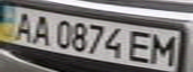0: (51, 17, 72, 50)
4: (103, 25, 130, 60)
7: (84, 22, 109, 55)
8: (69, 20, 90, 53)
A: (6, 9, 39, 43), (27, 13, 54, 46)
E: (124, 29, 157, 64)
M: (148, 33, 181, 66)
